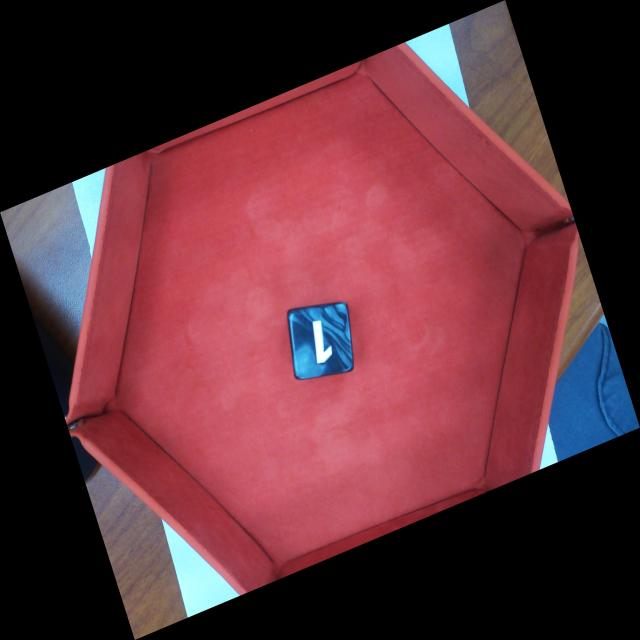dice: (285, 299, 357, 383)
